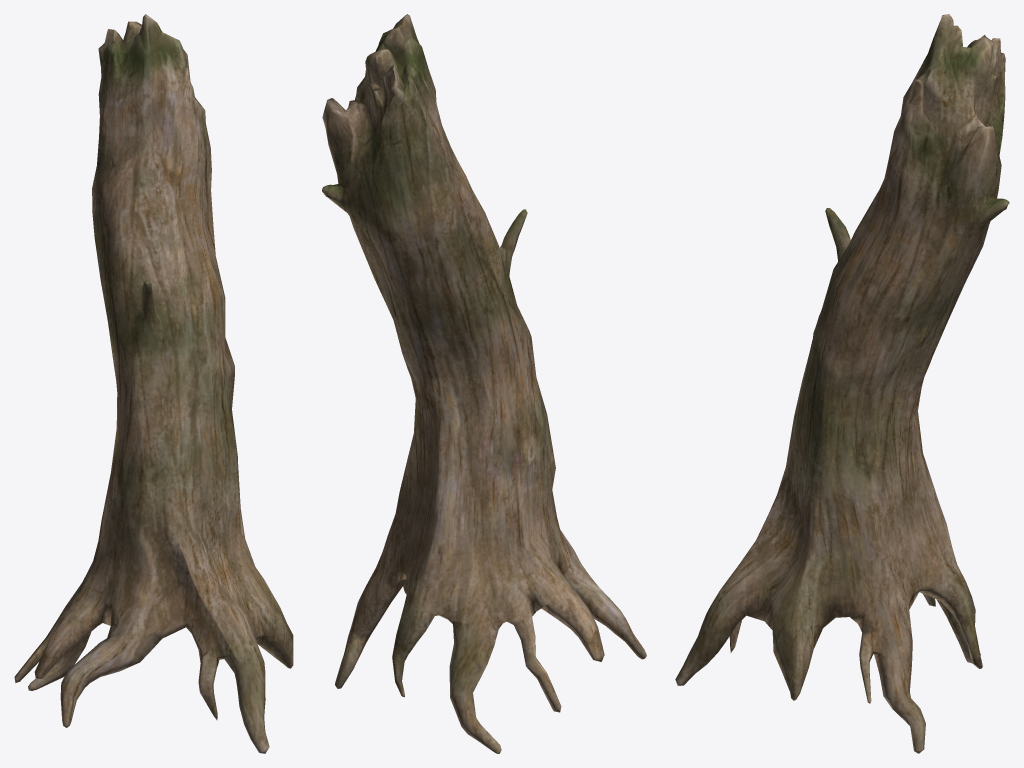
File: Snag.fbx
3 views of the same model, side by side, from view 1: azimuth 30°, elevation 25°; view 2: azimuth 150°, elevation 25°; view 3: azimuth 270°, elevation 25° (orthographic). The views are drawn at different scales.
Visible parts, largest first — view 1: Snag_LOD0; view 2: Snag_LOD0; view 3: Snag_LOD0.
Part boxes in pixels (left/top/right/bottom): Snag_LOD0: left=14, top=14, right=293, bottom=753; Snag_LOD0: left=322, top=14, right=646, bottom=753; Snag_LOD0: left=675, top=14, right=1009, bottom=753.
Size of what is drawn, in the model's own units: 2.56 by 6.91 by 2.99.
Materials: 1 (1 with a texture image).
